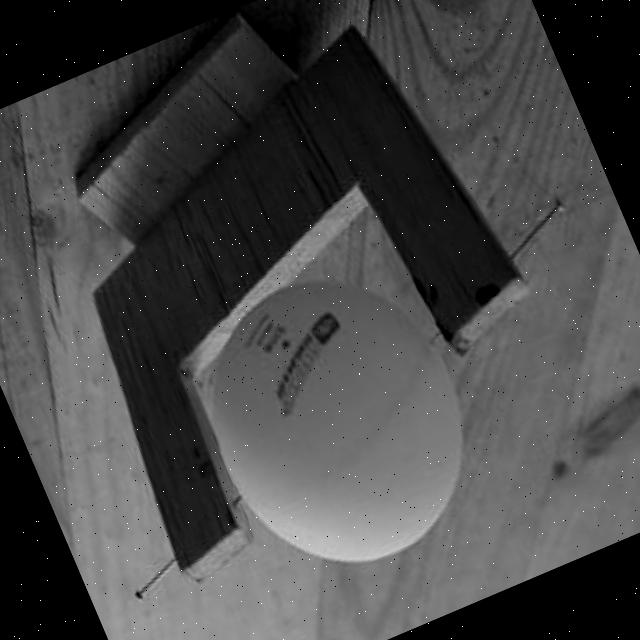ping-pong-ball: (173, 245, 504, 598)
